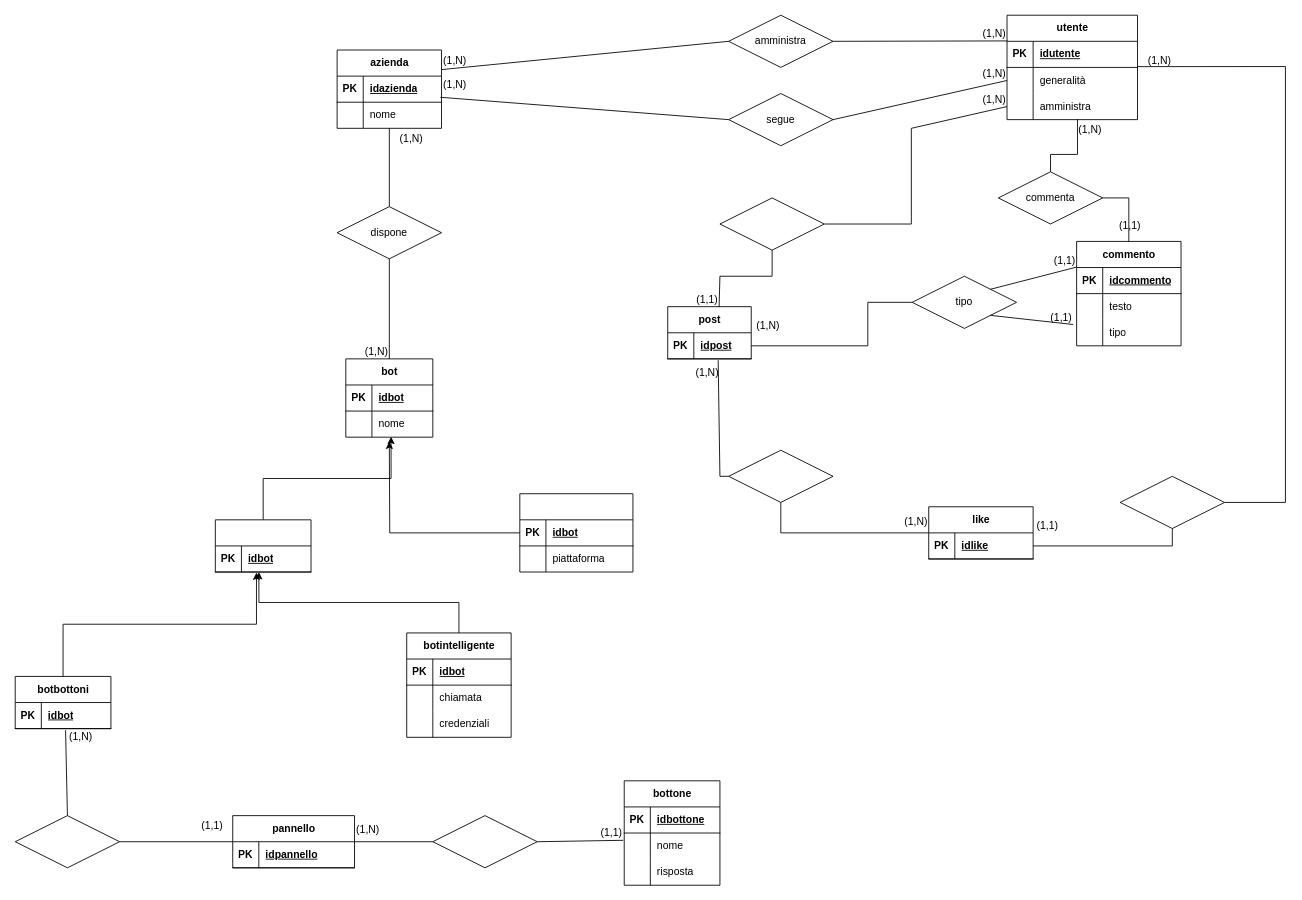
Some shapes in this 1302 by 900 pixel diagram are drawn without their labels. The shapes that lost their labels are listed below. From the top down, each one's box as (x1, y1, x2, y2) in pixels, then its label:
(719, 197, 824, 250): posta
(728, 449, 833, 502): ha
(1119, 475, 1225, 529): lascia
(214, 519, 311, 572): interno
(519, 493, 633, 572): esterno
(14, 815, 120, 868): composto
(432, 815, 537, 868): possiede
